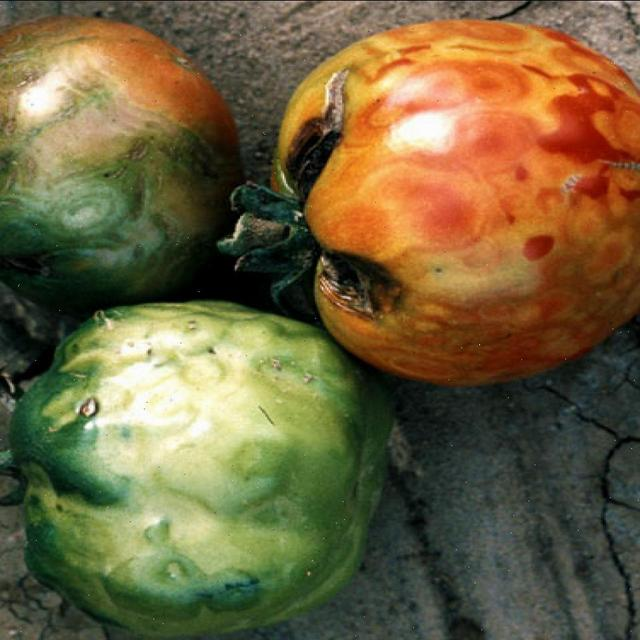Spotted wilt Virus Fruit: (0, 40, 427, 352)
